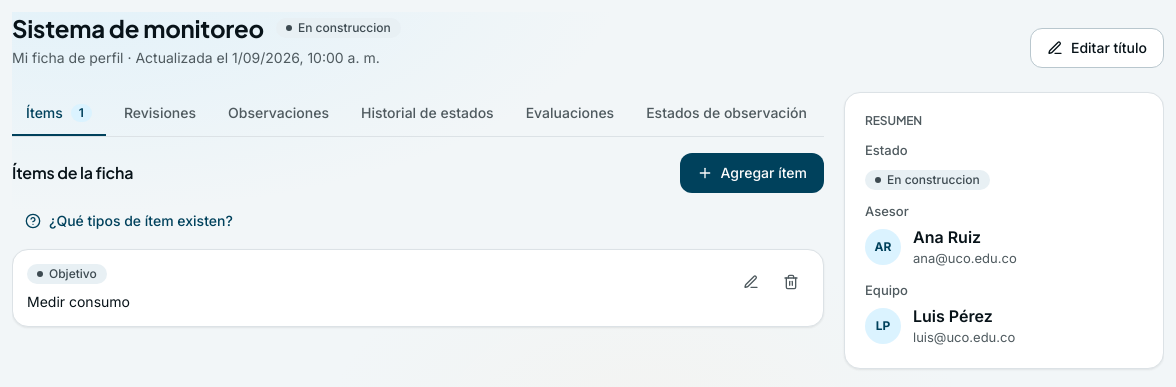
it: EstudianteView › la pestaña «Observaciones» monta el panel de observaciones de la ficha
Step 1. Click the tab "Observaciones" → [279, 114], box [214, 92, 343, 136]
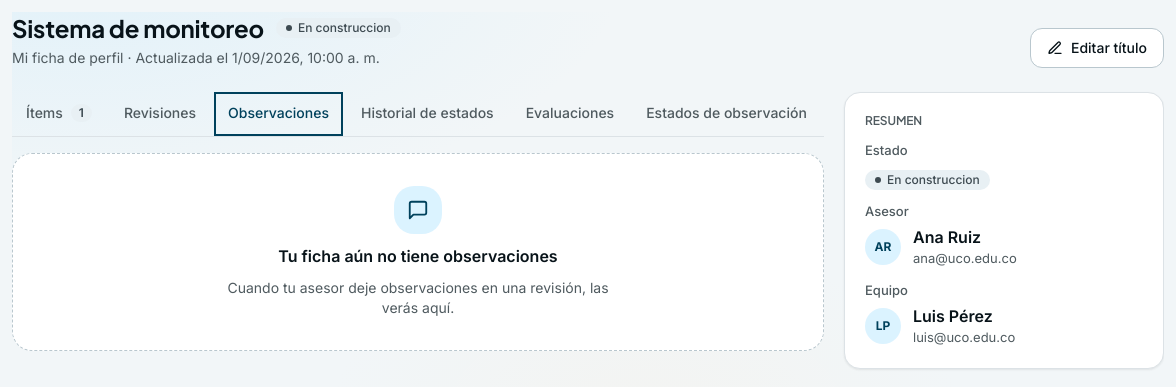
Expected: the text "Tu ficha aún no tiene observaciones" is shown, [278, 244, 558, 268]
